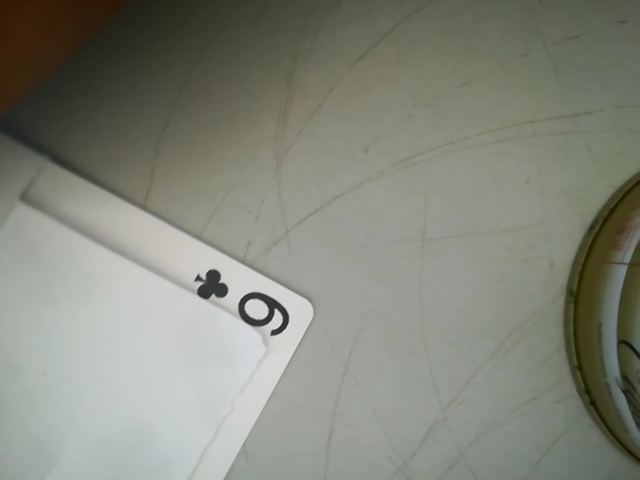mh 6: (196, 267, 303, 339)
